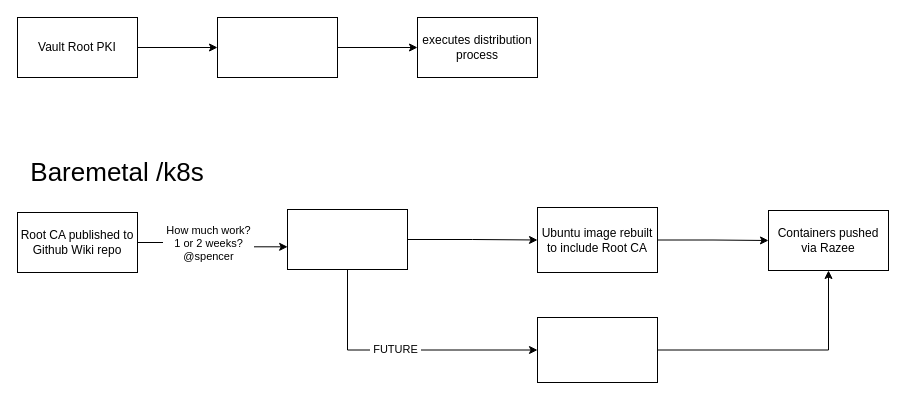
Image size: 906x400. Some labels were removed from this diagram. Here are the shapes that lost their labels. From the top down, the box of each, then its label:
(216, 16, 338, 78): generates new root
(286, 208, 408, 270): Pipeline publishes info to Artifactory
(536, 316, 658, 382): Scratch/Ubuntu image rebuilt to include Root CA
